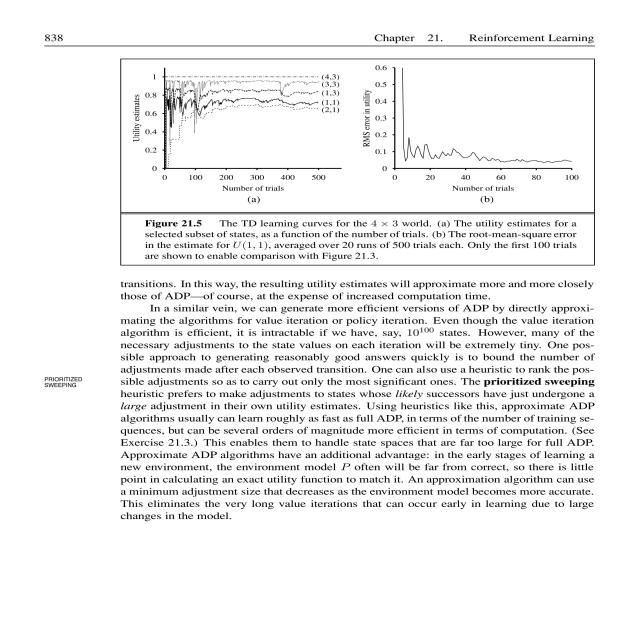diagram: (100, 54, 612, 278)
